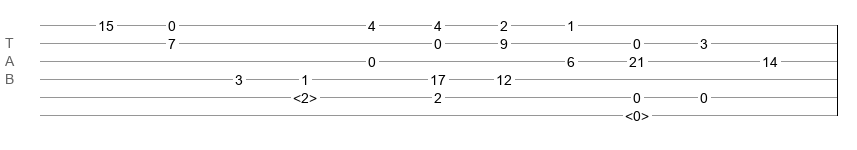0: (168, 18, 176, 28), (368, 54, 376, 64), (434, 36, 442, 46), (633, 36, 641, 46), (633, 90, 641, 100), (700, 90, 708, 100)
1: (301, 72, 309, 82), (567, 18, 575, 28)
12: (496, 72, 512, 82)
14: (762, 54, 778, 64)
15: (98, 18, 114, 28)
17: (430, 72, 446, 82)
2: (434, 90, 442, 100), (500, 18, 508, 28)
21: (629, 54, 645, 64)
3: (235, 72, 243, 82), (700, 36, 708, 46)
4: (368, 18, 376, 28), (434, 18, 442, 28)
6: (567, 54, 575, 64)
7: (168, 36, 176, 46)
9: (500, 36, 508, 46)
harmonic: (293, 90, 317, 100), (625, 108, 649, 118)
